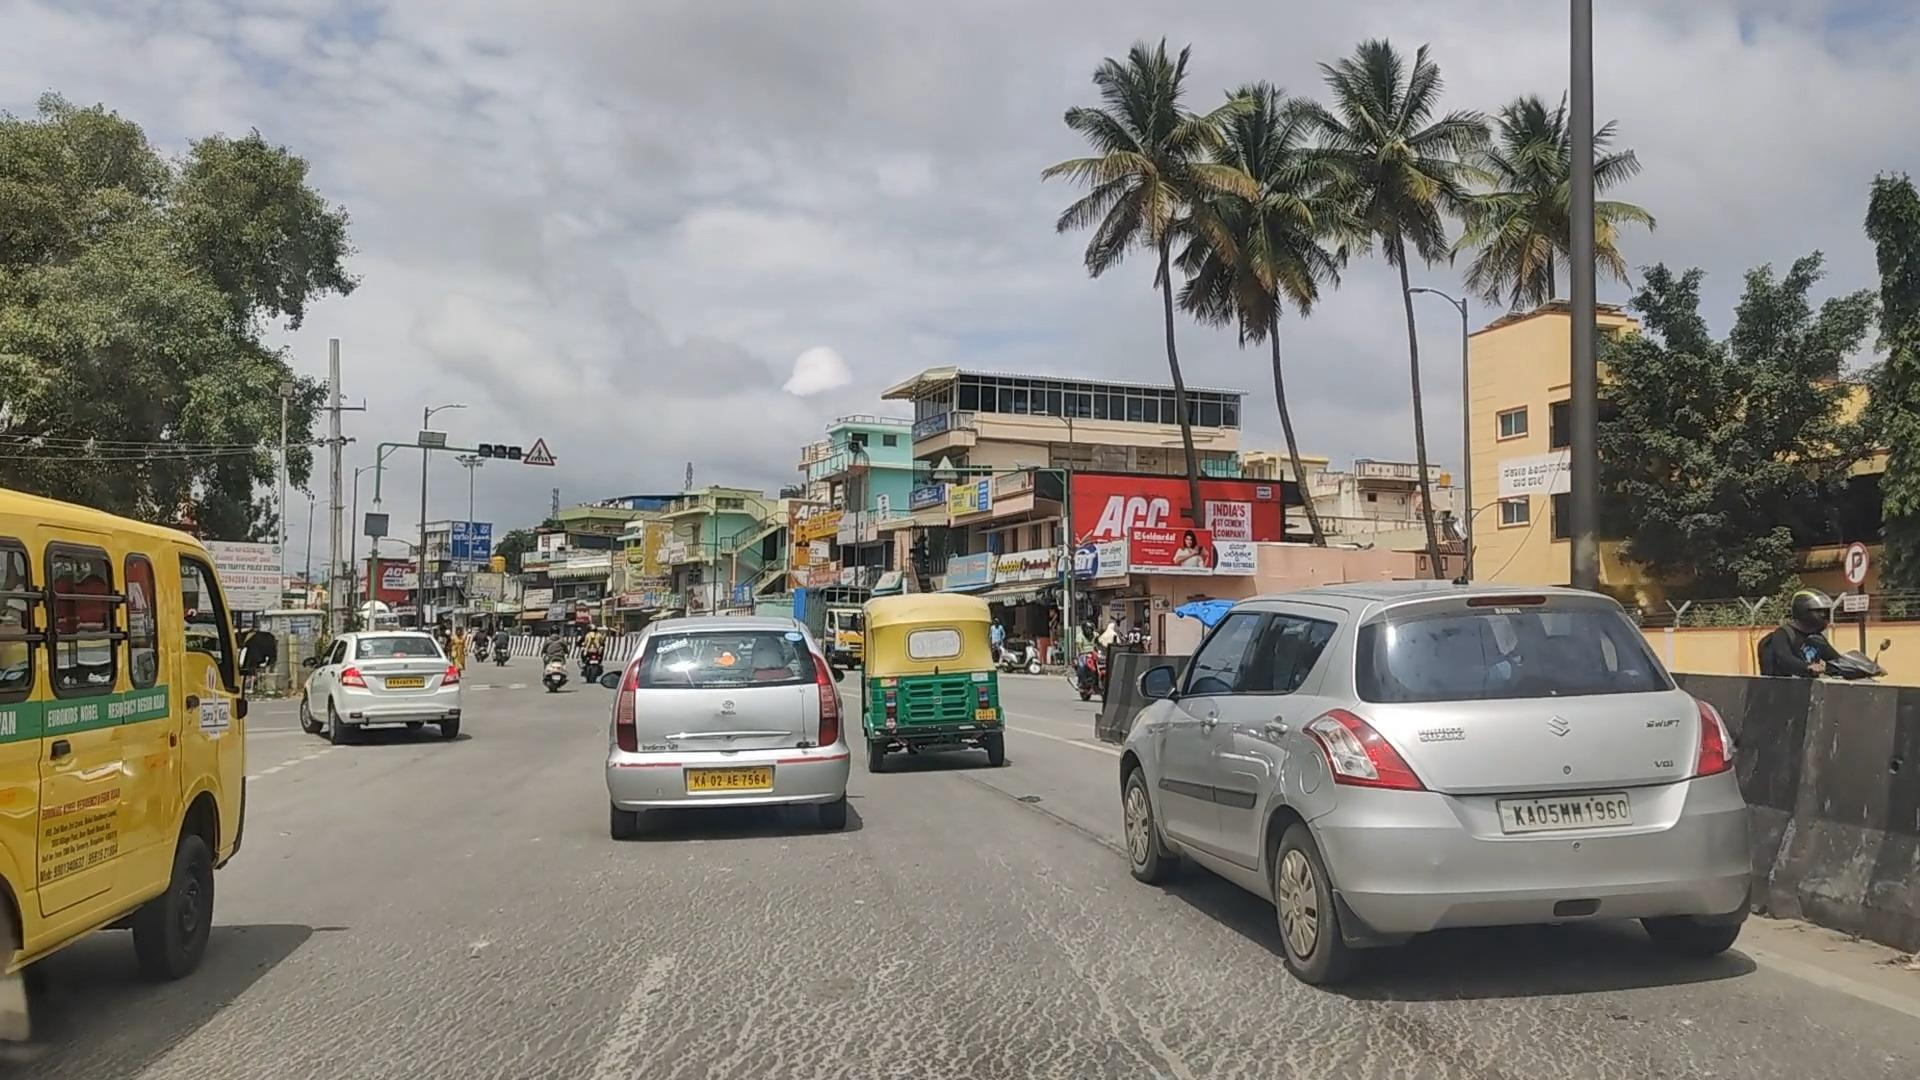LMV: (1116, 546, 1783, 1014), (0, 402, 249, 1080), (582, 605, 881, 851), (847, 572, 1044, 803), (299, 611, 469, 766)
